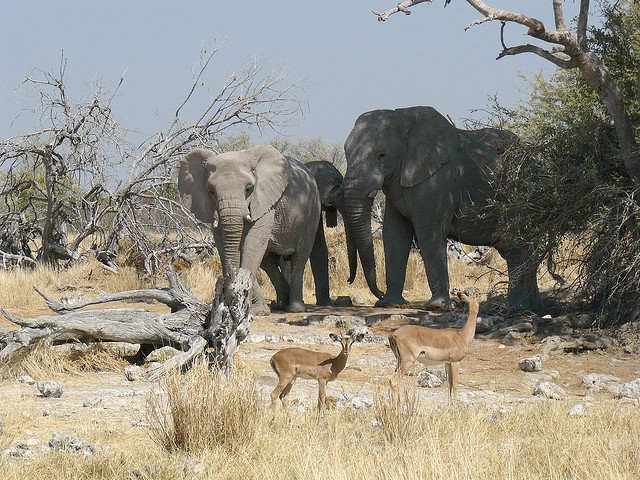elephant: (341, 106, 567, 307), (178, 144, 330, 315)
